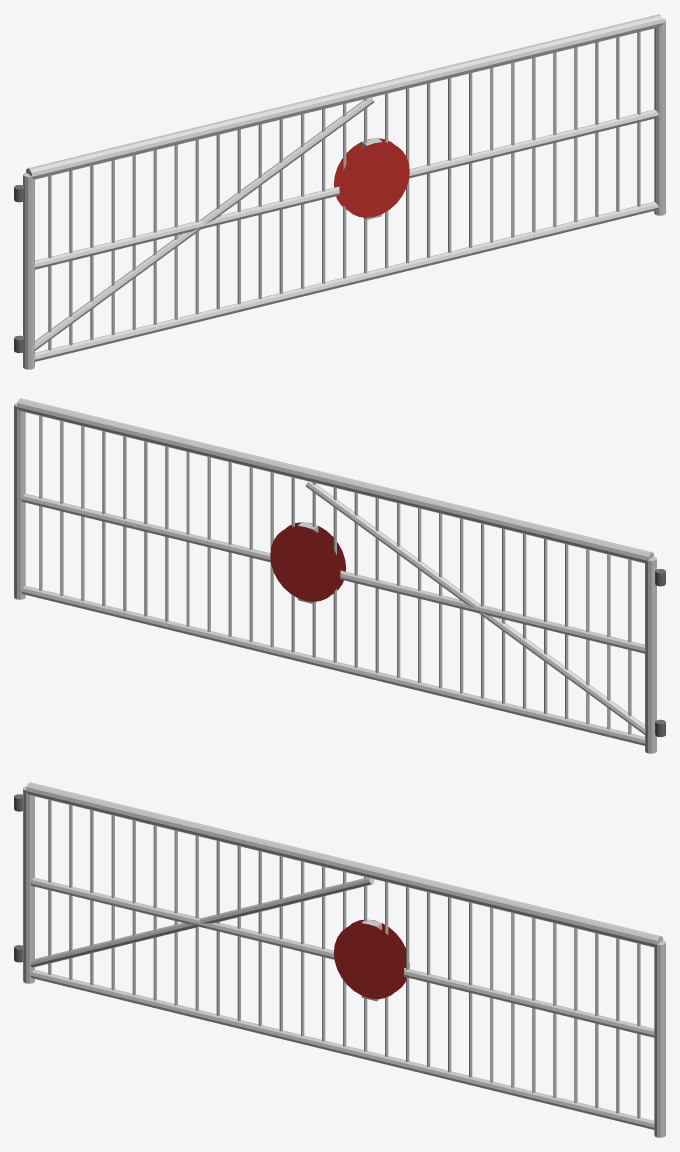
The model's file is lx_gate_40.glb.
3 renders of one model, top to bottom at view 1: azimuth 30°, elevation 25°; view 2: azimuth 150°, elevation 25°; view 3: azimuth 330°, elevation 25°, orthographic.
Visible parts, largest first — view 1: SM_lx_gate_40; view 2: SM_lx_gate_40; view 3: SM_lx_gate_40.
Part boxes in pixels (x1,y1,x2,y2): SM_lx_gate_40: (14,14,665,369); SM_lx_gate_40: (14,398,665,753); SM_lx_gate_40: (14,782,665,1137).
Bounding box in the file's own units: 4.06 × 1.18 × 0.07.
